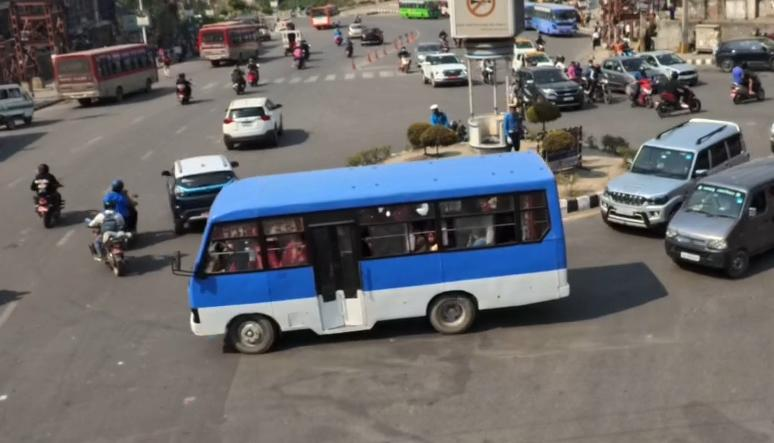SUV: (602, 112, 751, 234)
bus: (173, 149, 586, 359), (38, 39, 163, 108), (531, 0, 583, 40)
car: (162, 155, 244, 228), (219, 96, 289, 148), (516, 64, 585, 114), (419, 51, 466, 87)
van: (670, 156, 774, 279)
